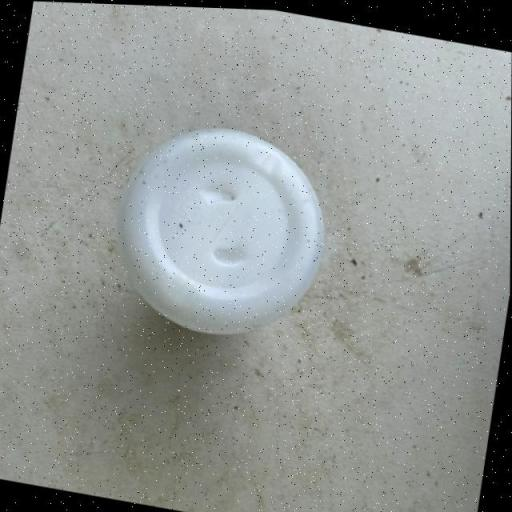plastic: (103, 108, 339, 350)
